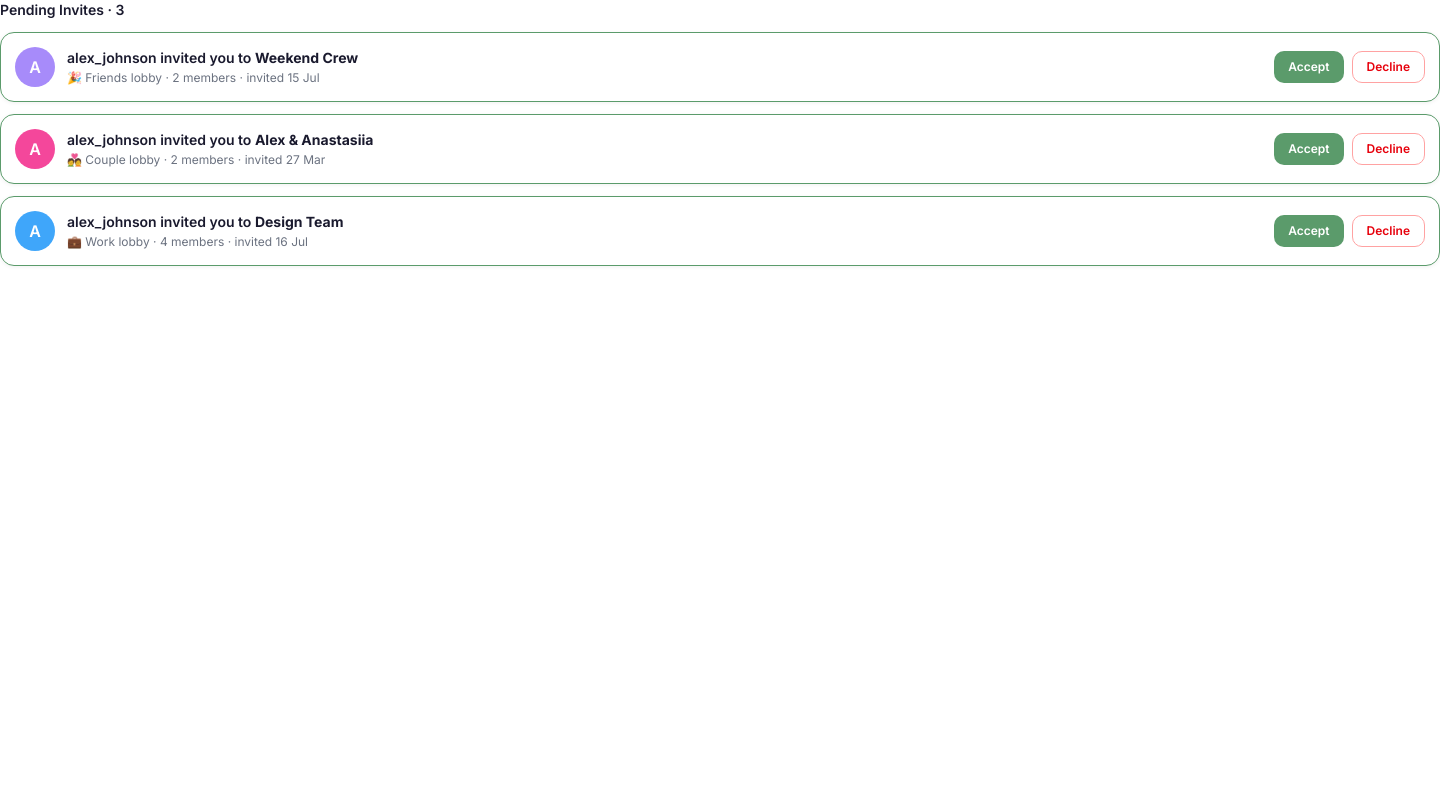
Test: PendingInvitesBanner › declines an invite after confirmation and removes the card
This screenshot has width=1440, height=810.
Expected: the heading "Pending Invites · 3" is shown, [0, 0, 124, 20]
Click the button "Decline" in the row of "Weekend Crew" at [1388, 67], box [1352, 51, 1425, 83]
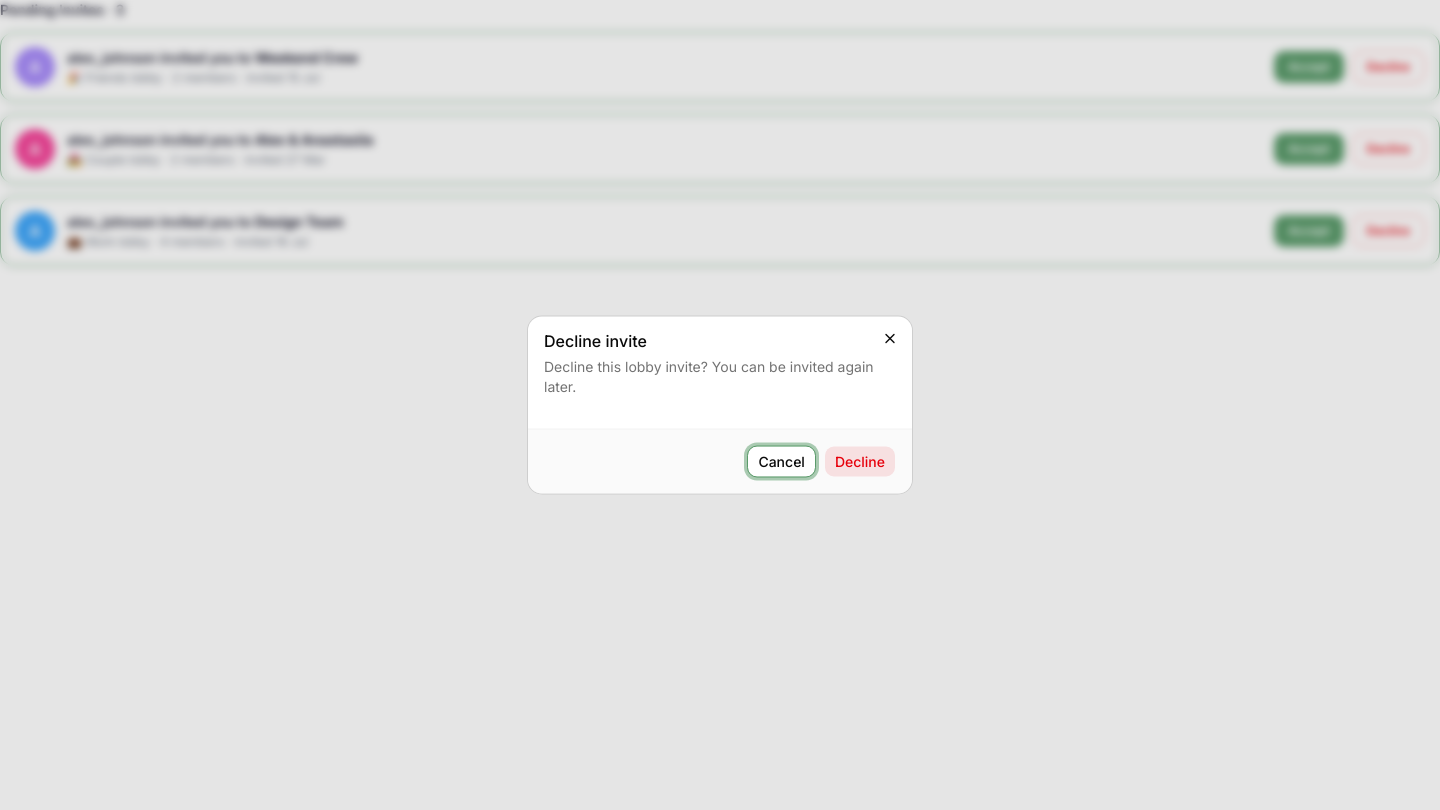
Now the heading "Decline invite" is shown, box [544, 330, 647, 350]
Click the button "Decline" at [860, 462], box [824, 446, 896, 478]
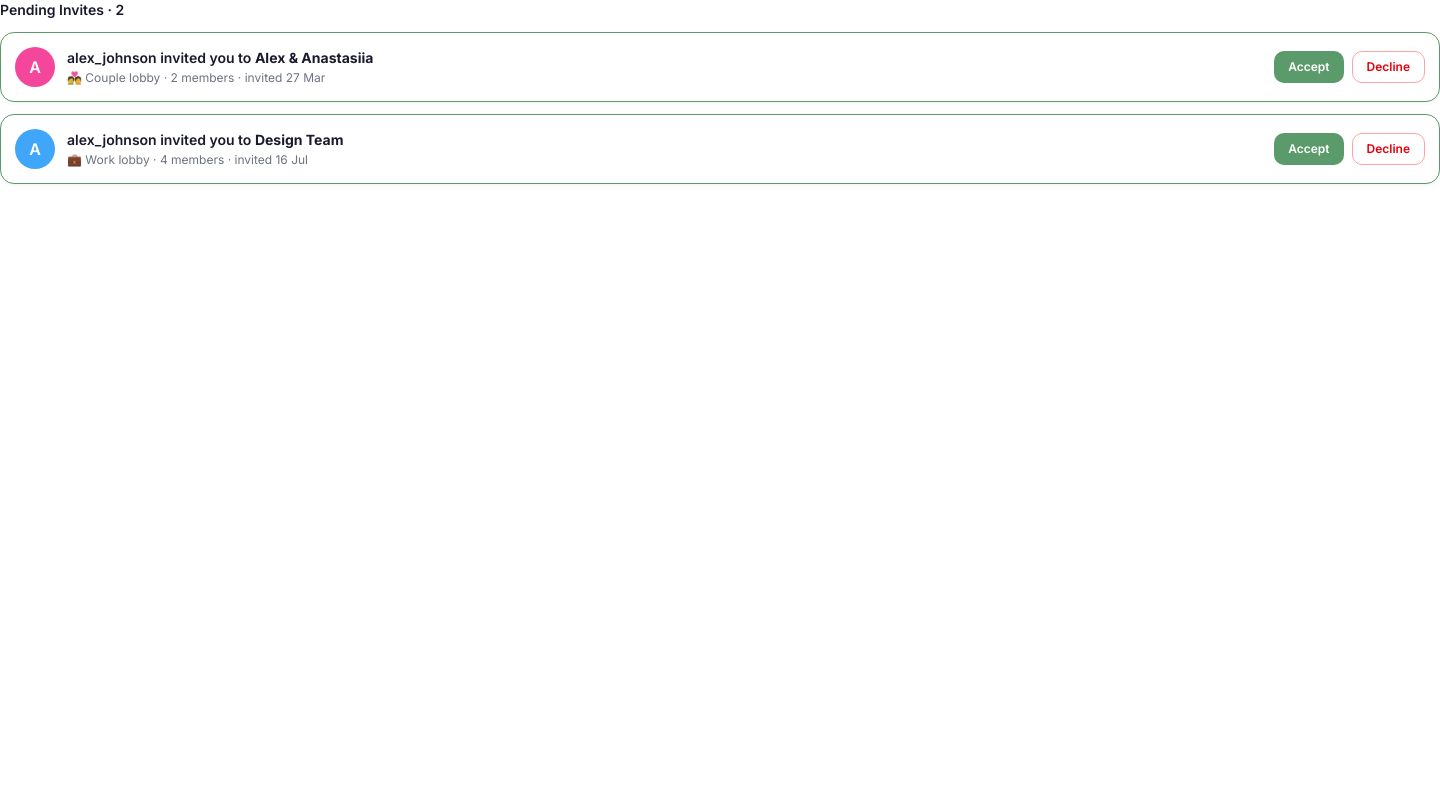
Now the heading "Pending Invites · 2" is shown, box [0, 0, 124, 20]
